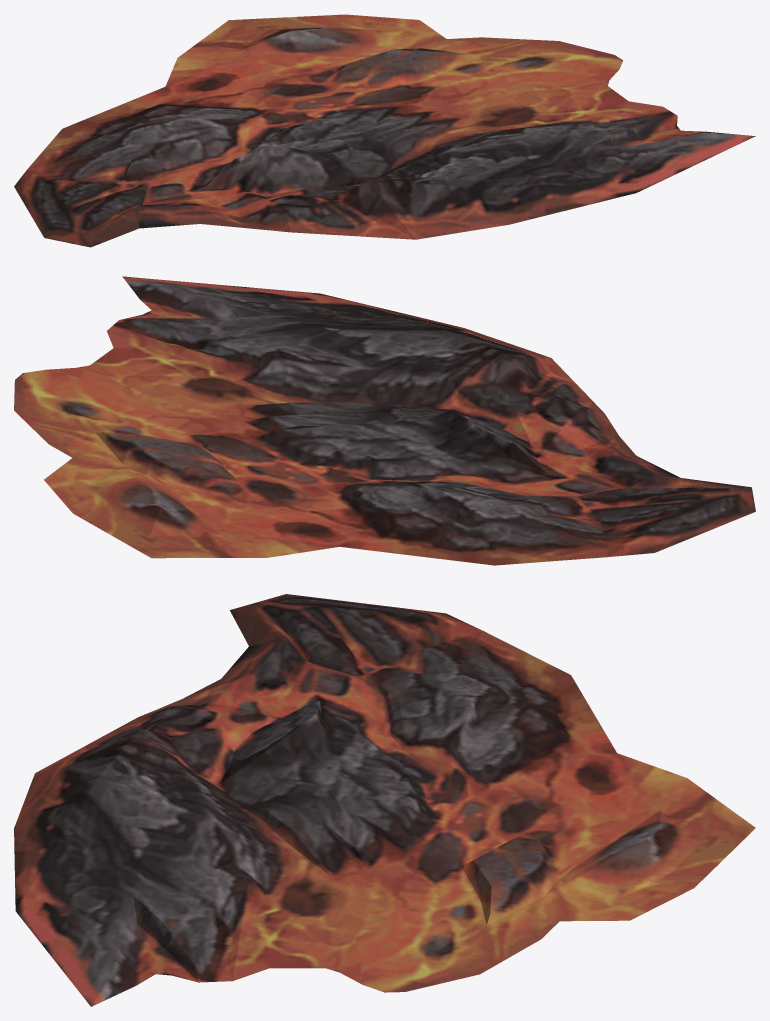
The model's file is sn_jingyanFB_shanshi01_09.FBX.
3 renders of one model, top to bottom at view 1: azimuth 30°, elevation 25°; view 2: azimuth 150°, elevation 25°; view 3: azimuth 270°, elevation 25°, orthographic. The views are drawn at different scales.
Visible parts, largest first — view 1: sn_jingyanFB_shanshi01_09; view 2: sn_jingyanFB_shanshi01_09; view 3: sn_jingyanFB_shanshi01_09.
Part boxes in pixels (box(x1,y1,x2,y2)): sn_jingyanFB_shanshi01_09: box(14, 14, 755, 247); sn_jingyanFB_shanshi01_09: box(14, 276, 755, 565); sn_jingyanFB_shanshi01_09: box(14, 594, 755, 1006).
Size of the model in its own units: 3916 by 2973 by 187.
